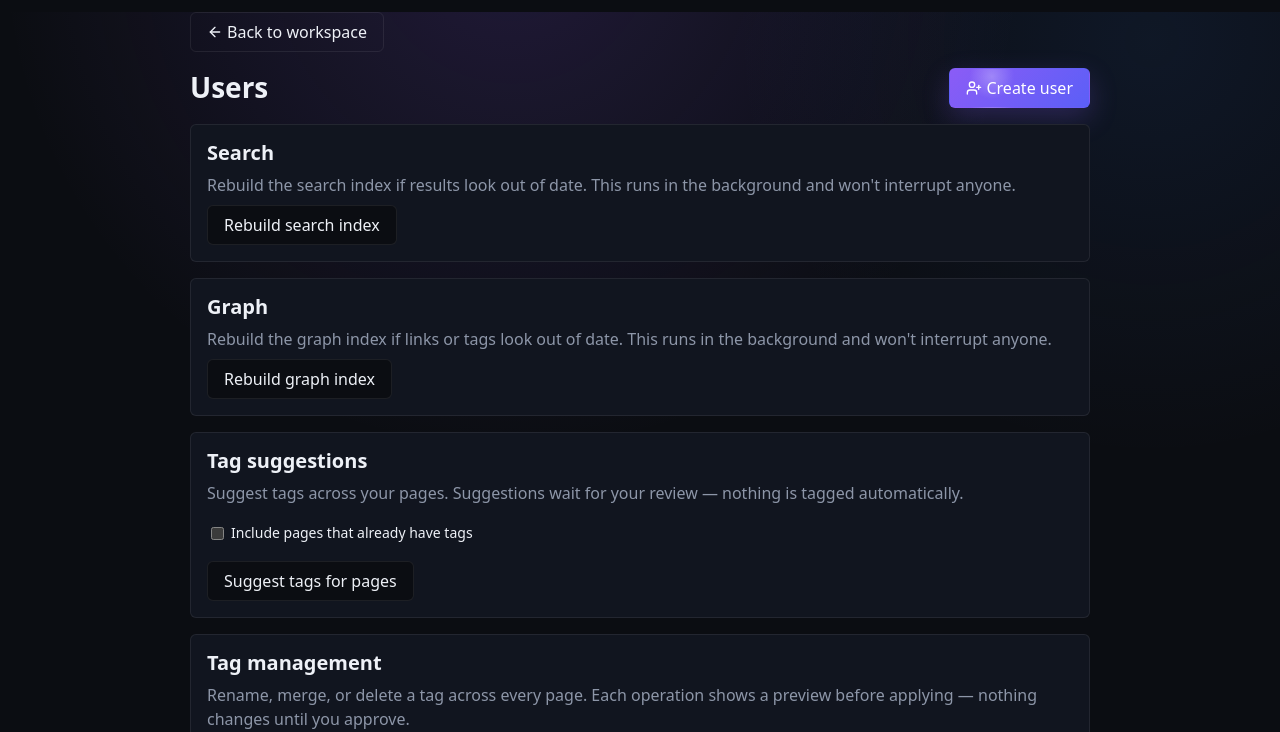
Test: Admin — Tag suggestions sweep-start (TAG-05) › starts an untagged-scope sweep and shows the queued-count confirmation
Click the button "Suggest tags for pages": (310, 581) [207, 561, 414, 601]
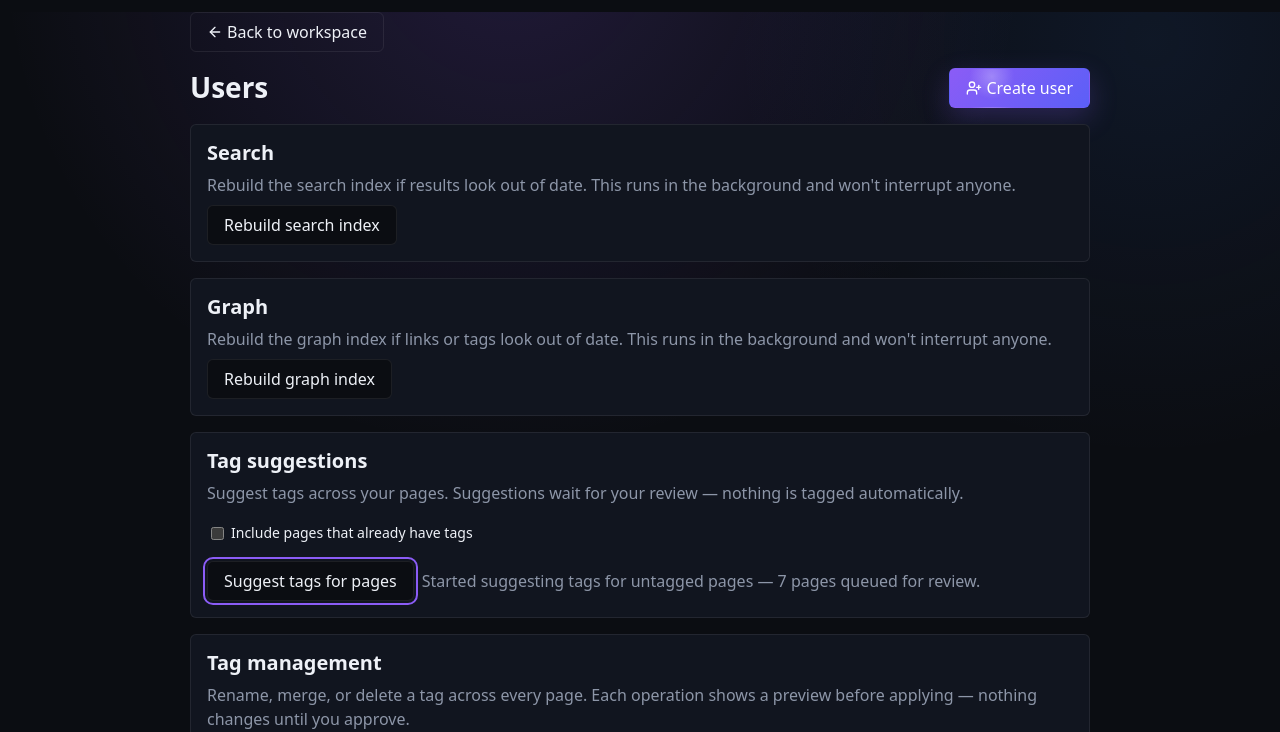
Now the text "Started suggesting tags for untagged pages — 7 pages queued for review." is shown, box [422, 569, 980, 593]
